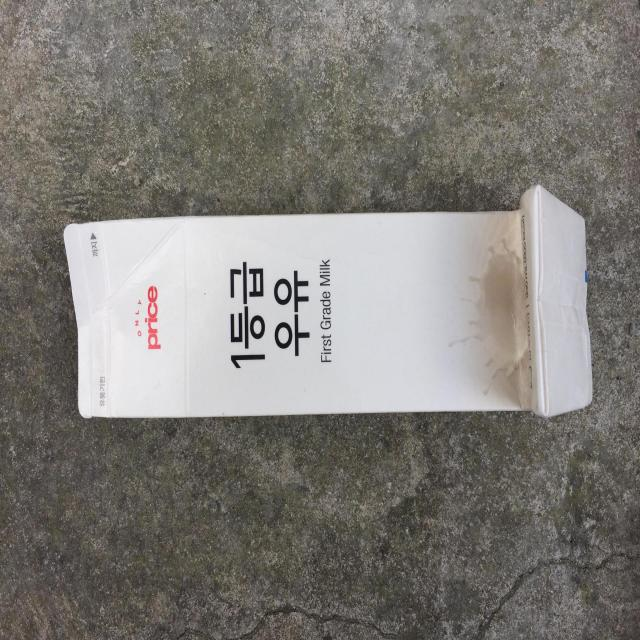paperpack: (63, 185, 594, 418)
